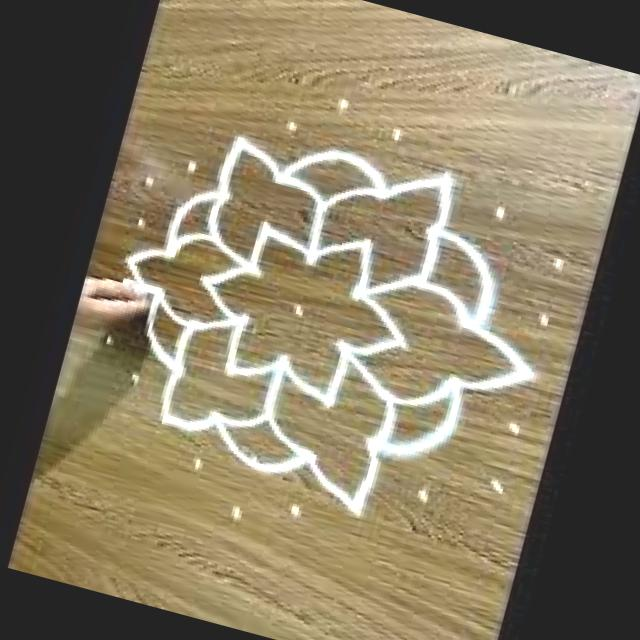rangoli: (26, 31, 614, 613)
